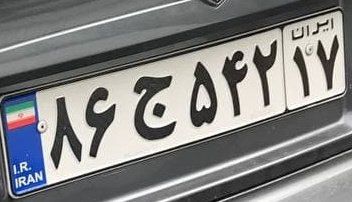character: (124, 72, 180, 143), (44, 94, 86, 171), (81, 85, 121, 159), (182, 58, 221, 128), (248, 37, 281, 111), (220, 50, 250, 120), (287, 41, 314, 101), (314, 33, 341, 91)
